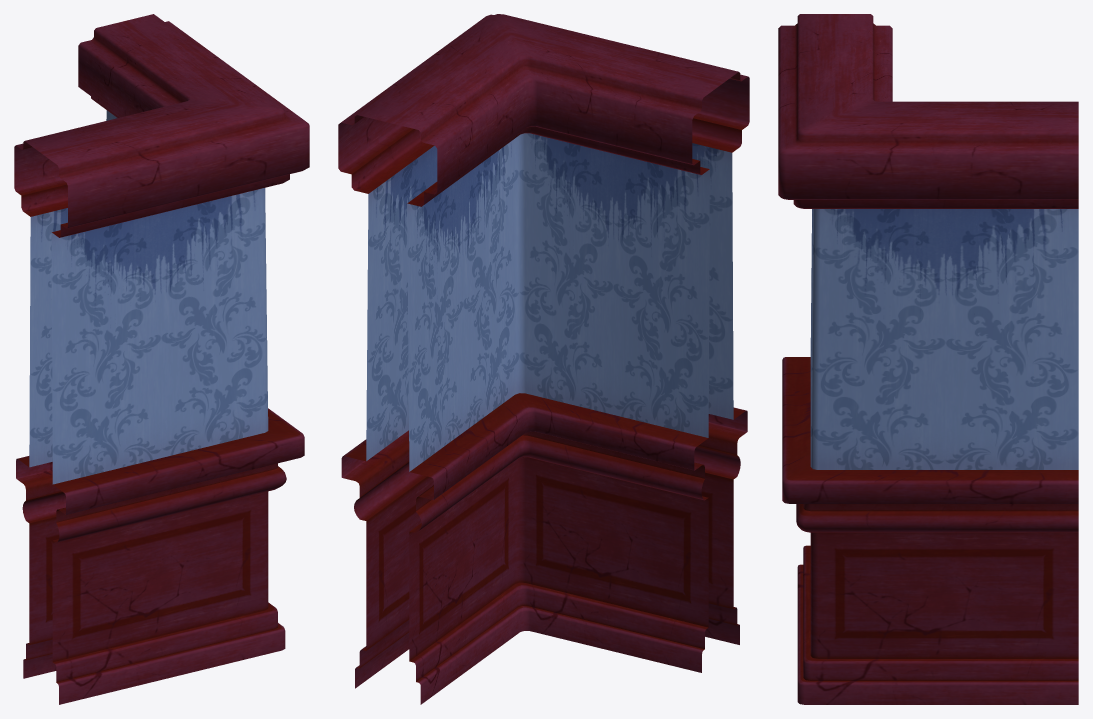
Rendered from Corridor_Wall_Corner.fbx.
3 views of the same model, side by side, from view 1: azimuth 30°, elevation 25°; view 2: azimuth 150°, elevation 25°; view 3: azimuth 270°, elevation 25° (orthographic). The views are drawn at different scales.
Parts seen in each view (by area): view 1: Wall_corner; view 2: Wall_corner; view 3: Wall_corner.
Boxes of the visible parts, bbox=[...] form: Wall_corner: bbox=[14, 14, 309, 704]; Wall_corner: bbox=[338, 14, 749, 704]; Wall_corner: bbox=[778, 14, 1078, 704].
Bounding box in the file's own units: 1.23 × 2.6 × 1.23.
